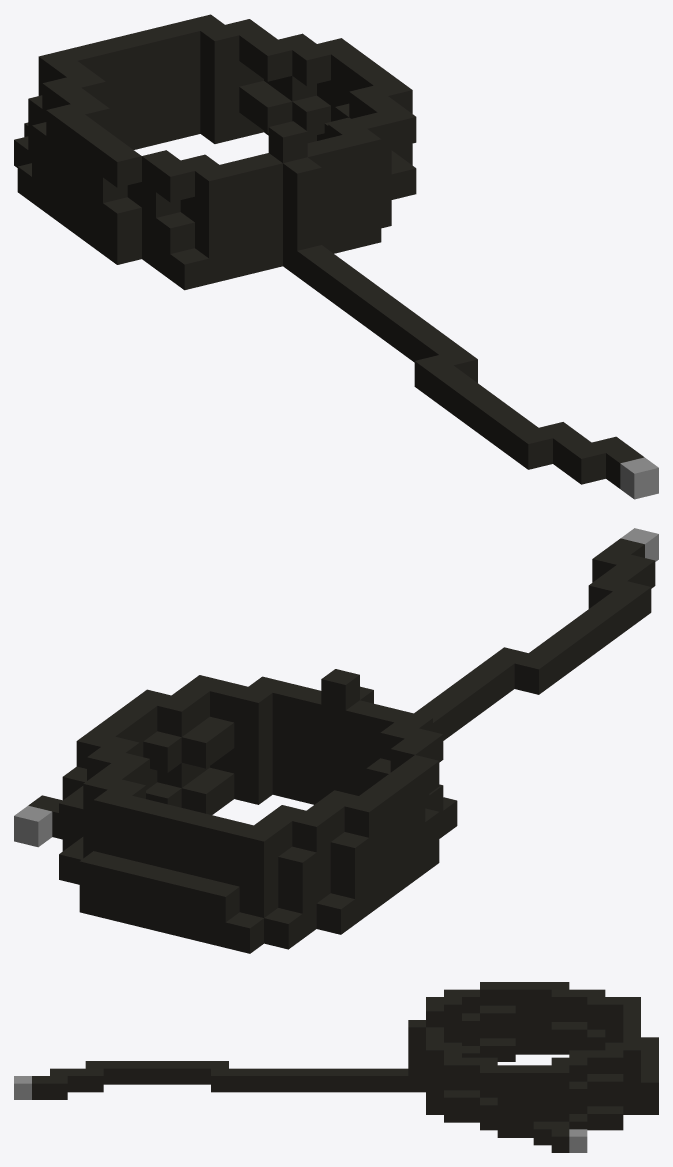
Rendered from Bunker - Free Sample-85-WoundCable-1.obj.
The picture shows the model from 3 angles, top to bottom: view 1: azimuth 30°, elevation 25°; view 2: azimuth 150°, elevation 25°; view 3: azimuth 270°, elevation 25°; orthographic projection. The views are drawn at different scales.
Parts seen in each view (by area): view 1: WoundCable-1; view 2: WoundCable-1; view 3: WoundCable-1.
Part boxes in pixels (x1,y1,x2,y2): WoundCable-1: [14, 14, 658, 499]; WoundCable-1: [14, 528, 658, 953]; WoundCable-1: [14, 982, 658, 1152].
Size of the model in its own units: 0.28 by 0.1 by 0.72.
1 material, 1 textured.
